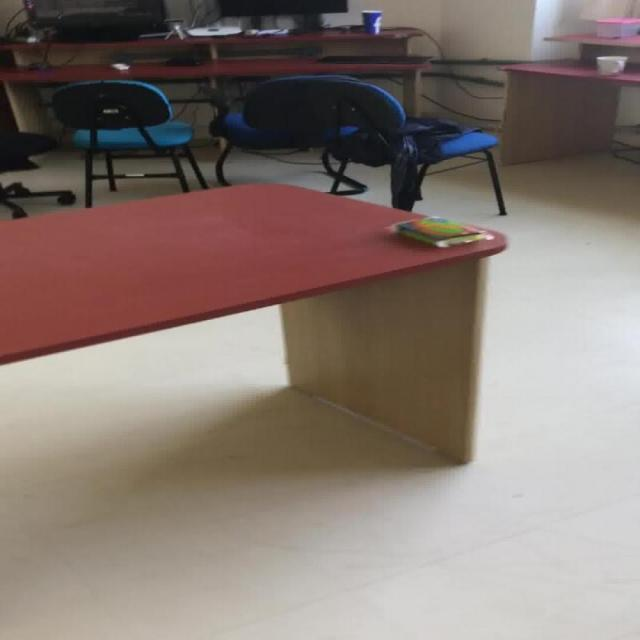Sponge: (392, 215, 489, 248)
